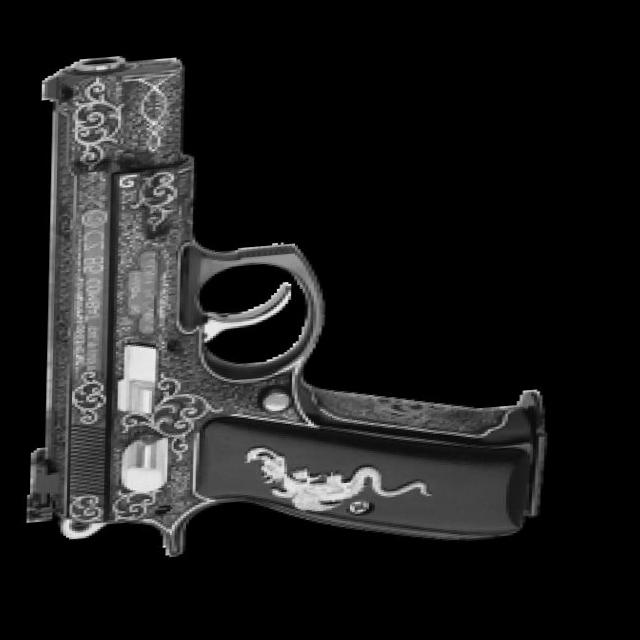handgun: (38, 31, 560, 586)
